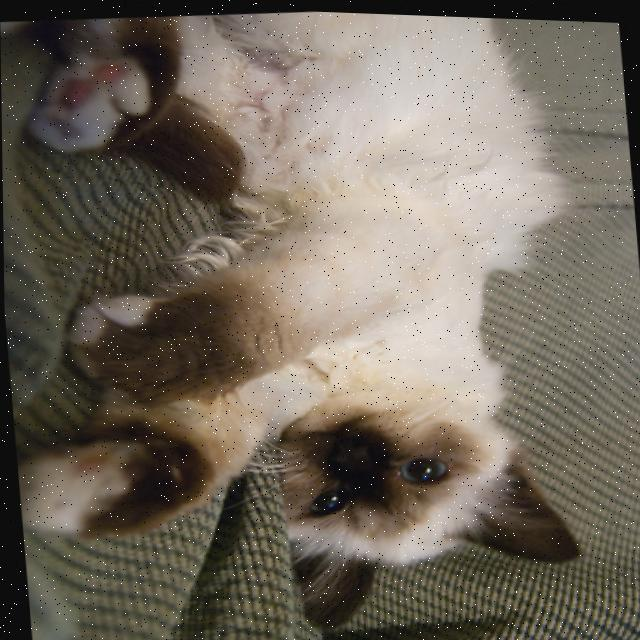Birman: (0, 0, 612, 640)
